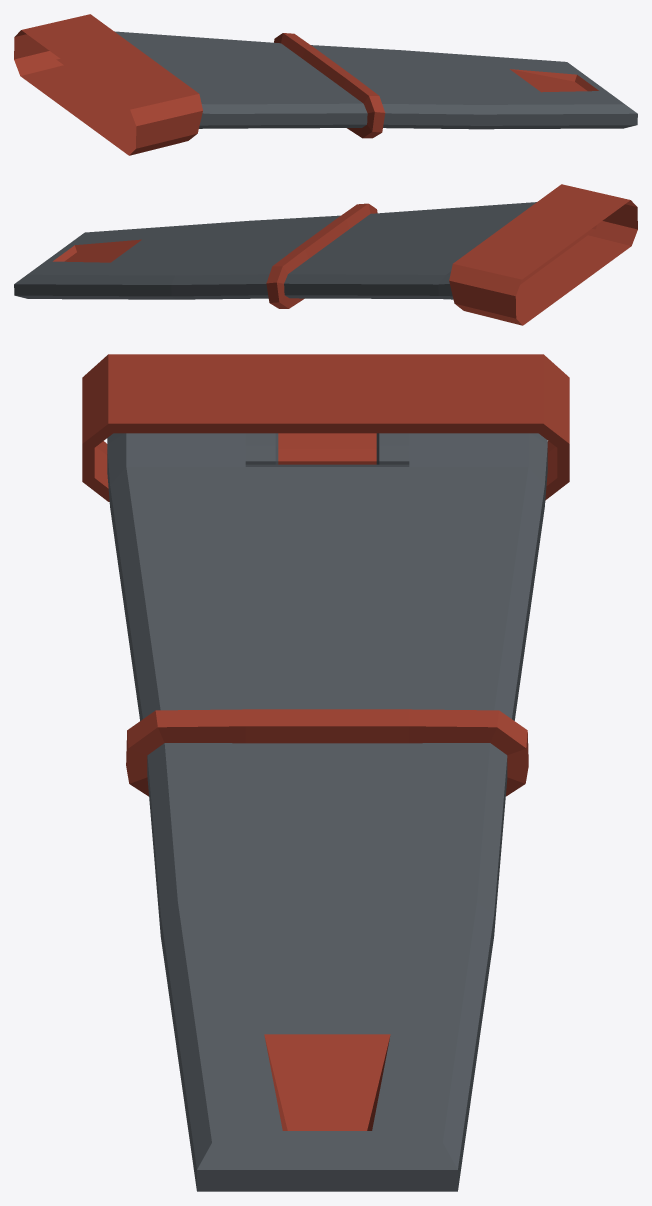
The model's file is Fighter_04_Small_Wing_Left_Red.fbx.
3 renders of one model, top to bottom at view 1: azimuth 30°, elevation 25°; view 2: azimuth 150°, elevation 25°; view 3: azimuth 270°, elevation 25°, orthographic. The views are drawn at different scales.
Visible parts, largest first — view 1: Fighter_04_Small_Wing_Left_Red; view 2: Fighter_04_Small_Wing_Left_Red; view 3: Fighter_04_Small_Wing_Left_Red.
Part boxes in pixels (<box>): Fighter_04_Small_Wing_Left_Red: <box>14,14,637,155</box>; Fighter_04_Small_Wing_Left_Red: <box>14,184,637,325</box>; Fighter_04_Small_Wing_Left_Red: <box>82,354,569,1191</box>.
Size of the model in its own units: 488 by 145 by 194.
Materials: 1 (1 with a texture image).
